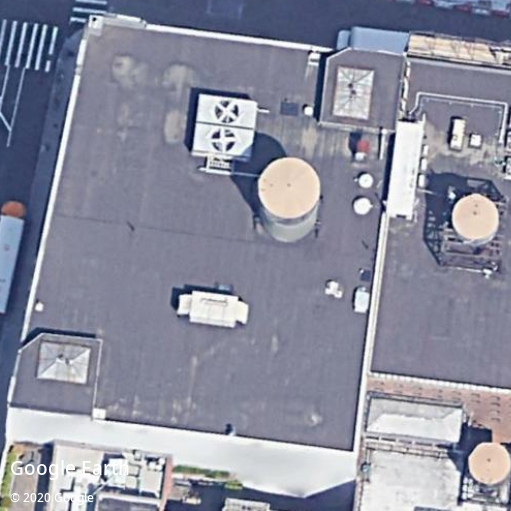Vent: (211, 128, 236, 152), (215, 100, 239, 124)
